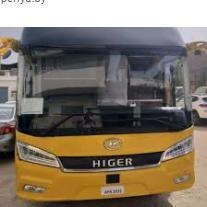bus: (14, 24, 196, 201)
